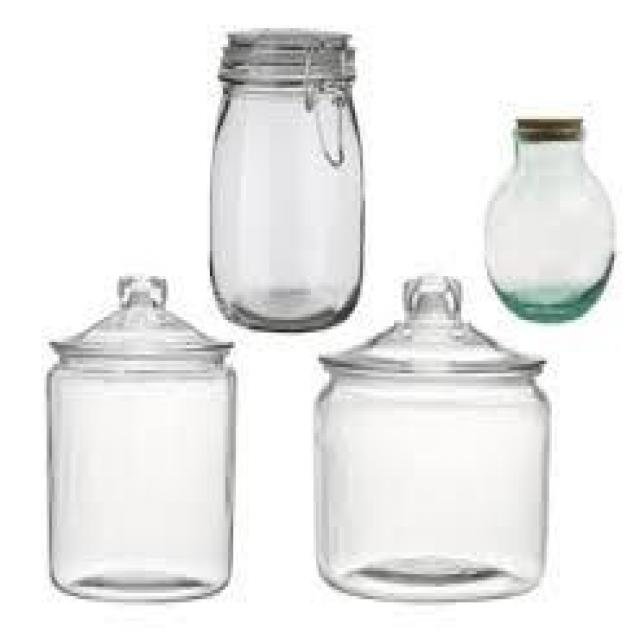non-organic waste: (311, 270, 552, 605), (44, 271, 241, 607), (204, 27, 366, 337), (478, 114, 618, 328)
